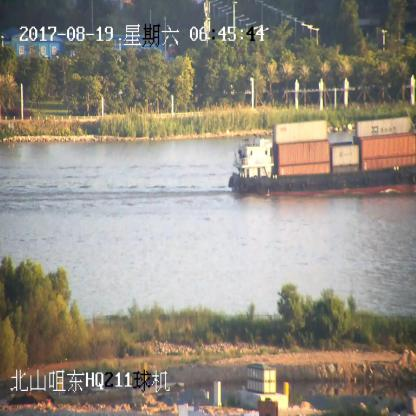Container Ship: (229, 117, 415, 199)
